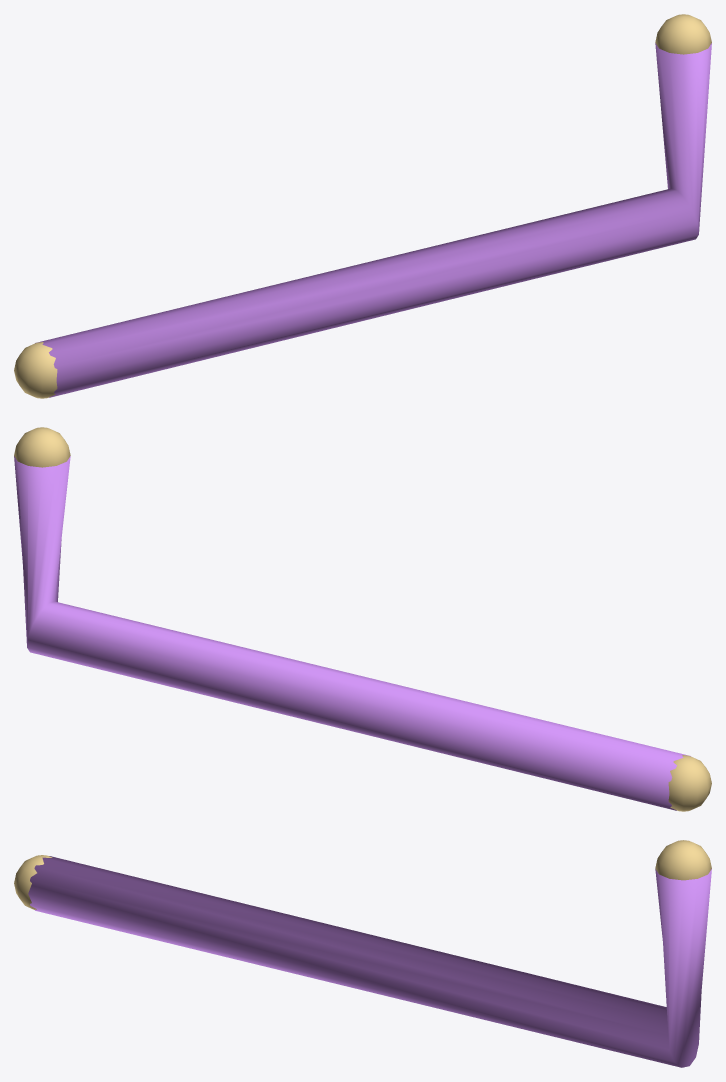
File: elbow-pin-Cds-rPHq.glb
3 renders of one model, top to bottom at view 1: azimuth 30°, elevation 25°; view 2: azimuth 150°, elevation 25°; view 3: azimuth 330°, elevation 25°, orthographic.
Visible parts, largest first — view 1: R3D_elbow-pin_Body_0, R3D_elbow-pin_Tip_0, R3D_elbow-pin_Tip_1; view 2: R3D_elbow-pin_Body_0, R3D_elbow-pin_Tip_0, R3D_elbow-pin_Tip_1; view 3: R3D_elbow-pin_Body_0, R3D_elbow-pin_Tip_1, R3D_elbow-pin_Tip_0.
Part boxes in pixels (left/top/right/bottom): R3D_elbow-pin_Body_0: left=35, top=43, right=711, bottom=397; R3D_elbow-pin_Tip_0: left=14, top=342, right=57, bottom=398; R3D_elbow-pin_Tip_1: left=655, top=14, right=711, bottom=54; R3D_elbow-pin_Body_0: left=14, top=456, right=690, bottom=810; R3D_elbow-pin_Tip_0: left=668, top=755, right=711, bottom=811; R3D_elbow-pin_Tip_1: left=14, top=427, right=70, bottom=467; R3D_elbow-pin_Body_0: left=28, top=856, right=711, bottom=1067; R3D_elbow-pin_Tip_1: left=655, top=840, right=711, bottom=880; R3D_elbow-pin_Tip_0: left=14, top=855, right=52, bottom=909.
Size of the model in its own units: 2.53 by 0.78 by 0.18.
